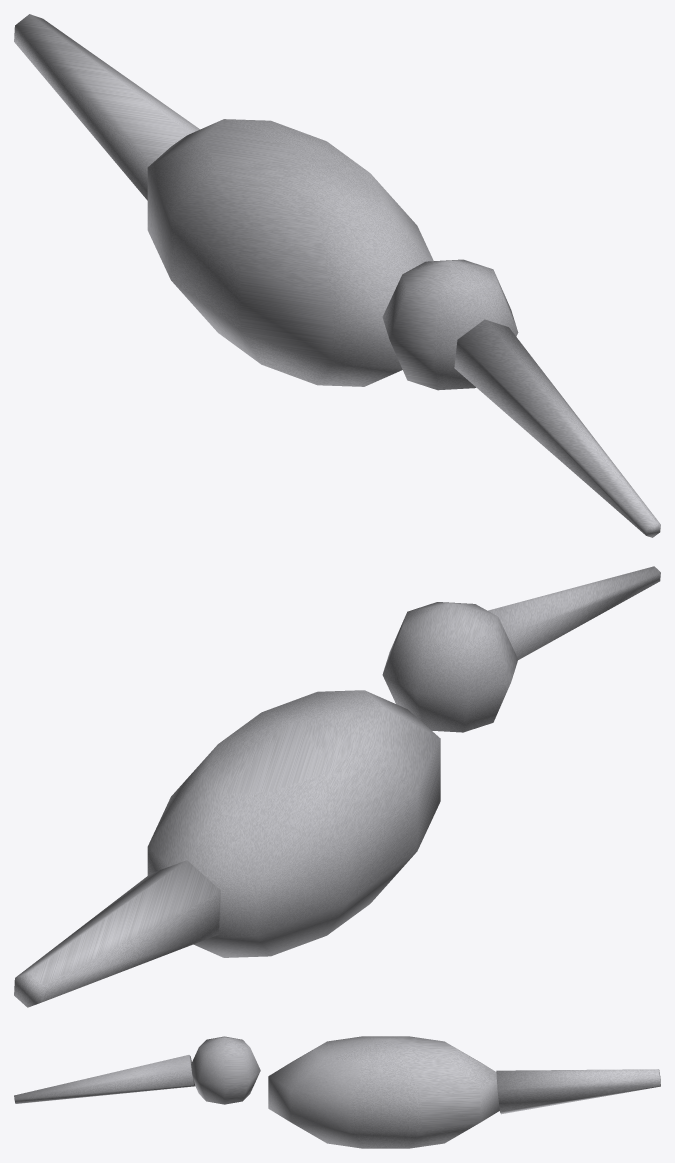
The model's file is ave_cuerpo.obj.
3 views of the same model, one above another, from view 1: azimuth 30°, elevation 25°; view 2: azimuth 150°, elevation 25°; view 3: azimuth 270°, elevation 25° (orthographic). The views are drawn at different scales.
Parts seen in each view (by area): view 1: ave_cuerpo; view 2: ave_cuerpo; view 3: ave_cuerpo.
Boxes of the visible parts, x1,y1,x2,y2 form: ave_cuerpo: (14,14,660,537); ave_cuerpo: (14,566,660,1007); ave_cuerpo: (14,1036,660,1148).
Size of the model in its own units: 0.1303 by 0.147 by 0.8023.
Materials: 1 (1 with a texture image).
